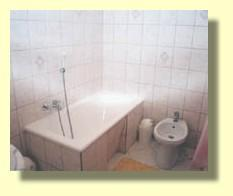Bote de Basura: (139, 113, 153, 145)
